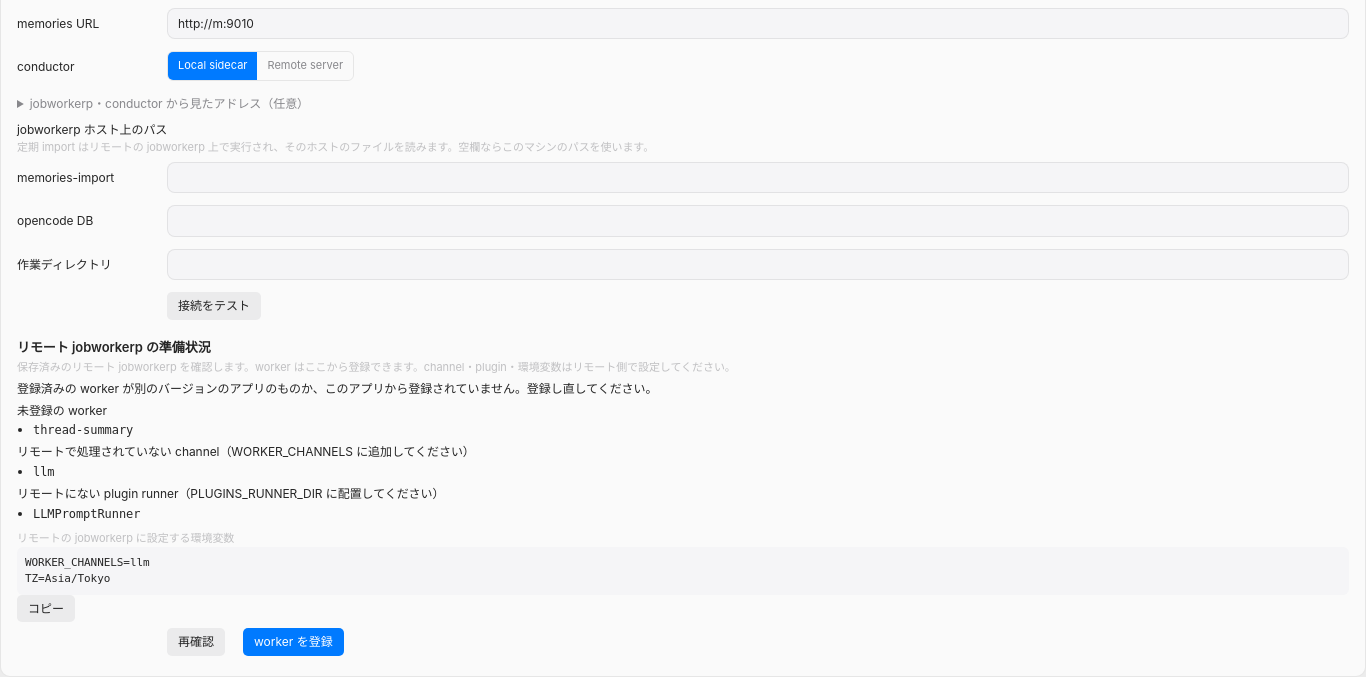
ConnectionCard › reports what the saved remote jobworkerp lacks and registers the workers
(page scrolled)
Expected: the text "thread-summary" is shown, x1=33 y1=423 x2=133 y2=437
Expected: the text "llm" is shown, x1=33 y1=465 x2=54 y2=479
Click the button "worker を登録" at (293, 642), box x1=243 y1=628 x2=344 y2=656
(page scrolled)
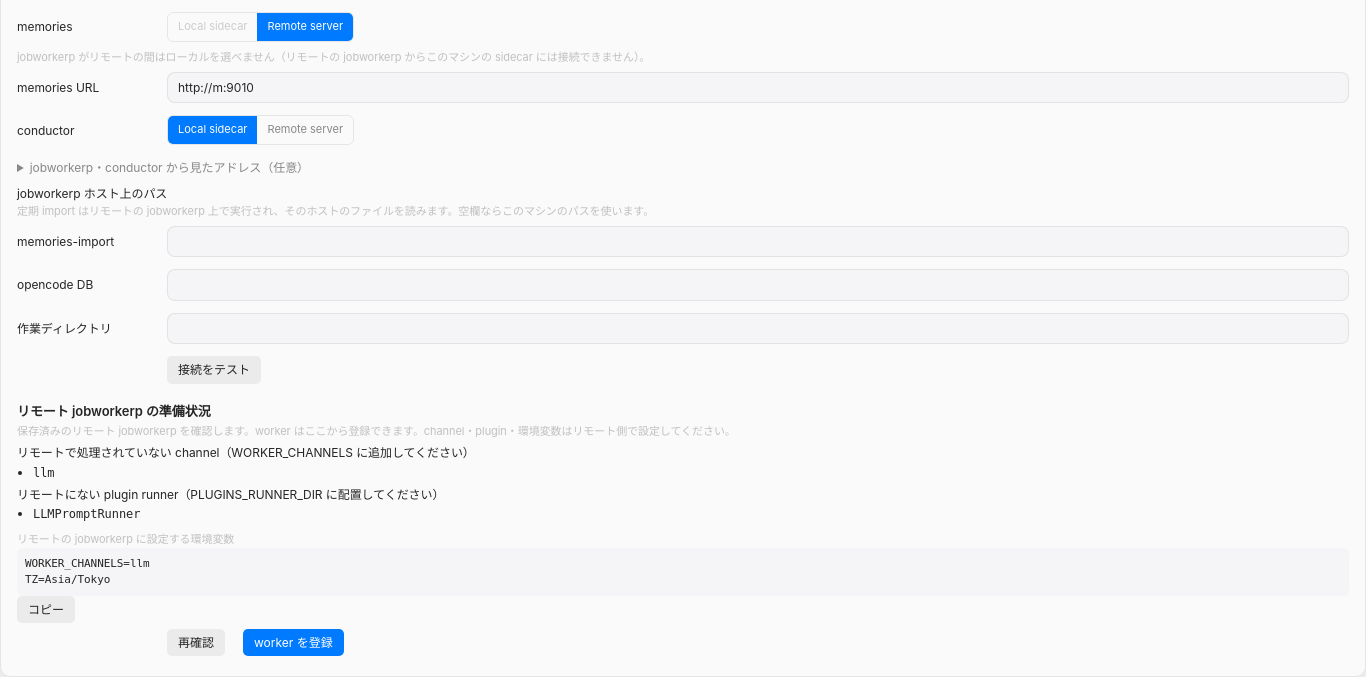
Expected: the text "LLMPromptRunner" is shown, x1=33 y1=508 x2=140 y2=522
Expected: the text "thread-summary" is gone
Expected: the text "別のバージョン" is gone
